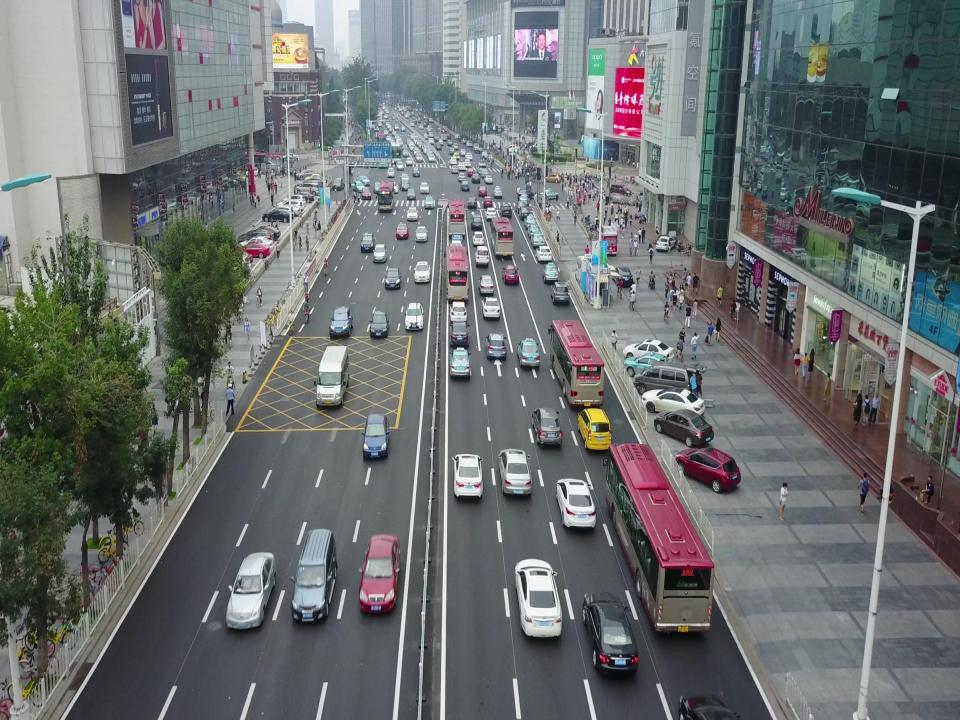bus: (603, 440, 716, 638), (547, 318, 605, 408), (445, 245, 469, 302), (489, 216, 515, 257), (448, 198, 466, 237), (375, 180, 395, 213), (388, 138, 402, 164)
car: (581, 590, 639, 681), (514, 556, 564, 642), (225, 550, 276, 631), (357, 532, 401, 615), (674, 446, 742, 494), (654, 408, 714, 450), (554, 477, 596, 534), (641, 385, 706, 418), (498, 448, 532, 498), (623, 350, 679, 379), (577, 408, 613, 452), (452, 453, 484, 500), (360, 413, 390, 460), (531, 406, 563, 448), (623, 338, 673, 361), (329, 305, 353, 338), (448, 347, 472, 380), (516, 338, 540, 369), (485, 332, 508, 361), (368, 310, 390, 339), (234, 242, 270, 259), (238, 235, 274, 252), (404, 301, 424, 331), (247, 224, 281, 241), (449, 320, 470, 347), (240, 228, 272, 245), (481, 296, 501, 321), (550, 280, 570, 305), (611, 267, 633, 288), (384, 267, 402, 291), (448, 300, 468, 321), (261, 208, 293, 221), (501, 264, 520, 285), (414, 260, 431, 282), (276, 199, 304, 212), (271, 204, 301, 216), (655, 234, 675, 252), (359, 231, 375, 253), (478, 273, 494, 295), (474, 246, 490, 268), (542, 262, 558, 283), (535, 246, 553, 264), (372, 242, 388, 262), (296, 180, 323, 191), (539, 187, 559, 201), (530, 230, 545, 248), (282, 194, 306, 205), (290, 192, 314, 203), (295, 183, 319, 194), (414, 225, 428, 243), (448, 239, 464, 254), (395, 223, 409, 240), (470, 214, 483, 231), (303, 176, 325, 186), (516, 188, 534, 200), (471, 230, 485, 245), (355, 174, 371, 187), (295, 169, 315, 179), (543, 173, 561, 184), (515, 200, 529, 214), (406, 207, 419, 222), (484, 207, 497, 222), (519, 206, 532, 221), (500, 204, 512, 220), (351, 179, 365, 192), (304, 172, 322, 182), (528, 222, 540, 237), (524, 214, 536, 229), (332, 178, 344, 192), (282, 152, 298, 162), (451, 232, 463, 245), (424, 194, 434, 209), (399, 179, 410, 192), (493, 184, 503, 198), (466, 197, 477, 209), (361, 187, 372, 199), (519, 194, 530, 206), (482, 195, 492, 208), (406, 188, 416, 201), (420, 181, 430, 194), (388, 181, 398, 194), (477, 162, 487, 175), (460, 180, 470, 192), (477, 185, 487, 197), (373, 181, 383, 193), (400, 172, 410, 182), (470, 173, 480, 183), (396, 160, 405, 170), (483, 175, 493, 184), (466, 167, 475, 177), (457, 161, 466, 171), (412, 166, 420, 177), (481, 168, 489, 179), (387, 167, 395, 177), (458, 172, 466, 182), (405, 157, 413, 166), (428, 153, 436, 162), (449, 156, 457, 165), (465, 152, 473, 161), (452, 152, 460, 161), (450, 165, 458, 173), (458, 148, 466, 156), (434, 142, 442, 150), (416, 153, 423, 162), (402, 148, 409, 157), (464, 159, 471, 167), (414, 148, 420, 157), (413, 146, 419, 155), (421, 142, 427, 151), (466, 140, 473, 147), (449, 147, 455, 155), (402, 144, 408, 152), (426, 148, 432, 156), (424, 145, 430, 153), (418, 141, 424, 149), (414, 136, 420, 144), (428, 137, 434, 145), (438, 138, 444, 146), (447, 139, 453, 147), (428, 151, 434, 158), (410, 143, 416, 150), (451, 143, 458, 149), (461, 137, 467, 144), (416, 139, 422, 145)
van: (289, 527, 339, 625), (632, 359, 700, 398), (312, 344, 350, 408), (472, 143, 480, 151)
